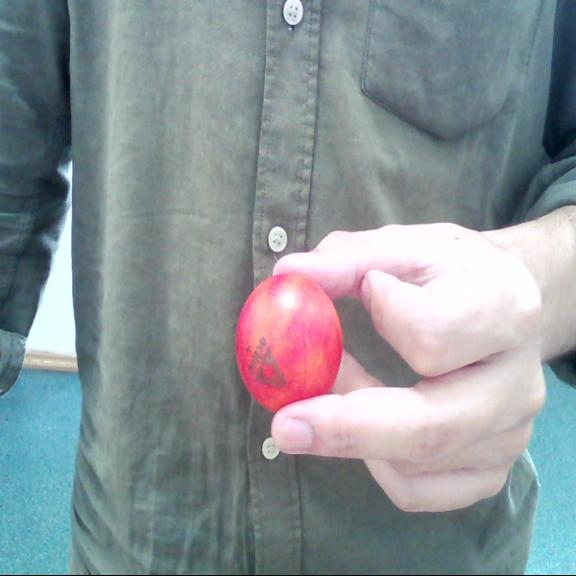ball: (238, 270, 344, 414)
